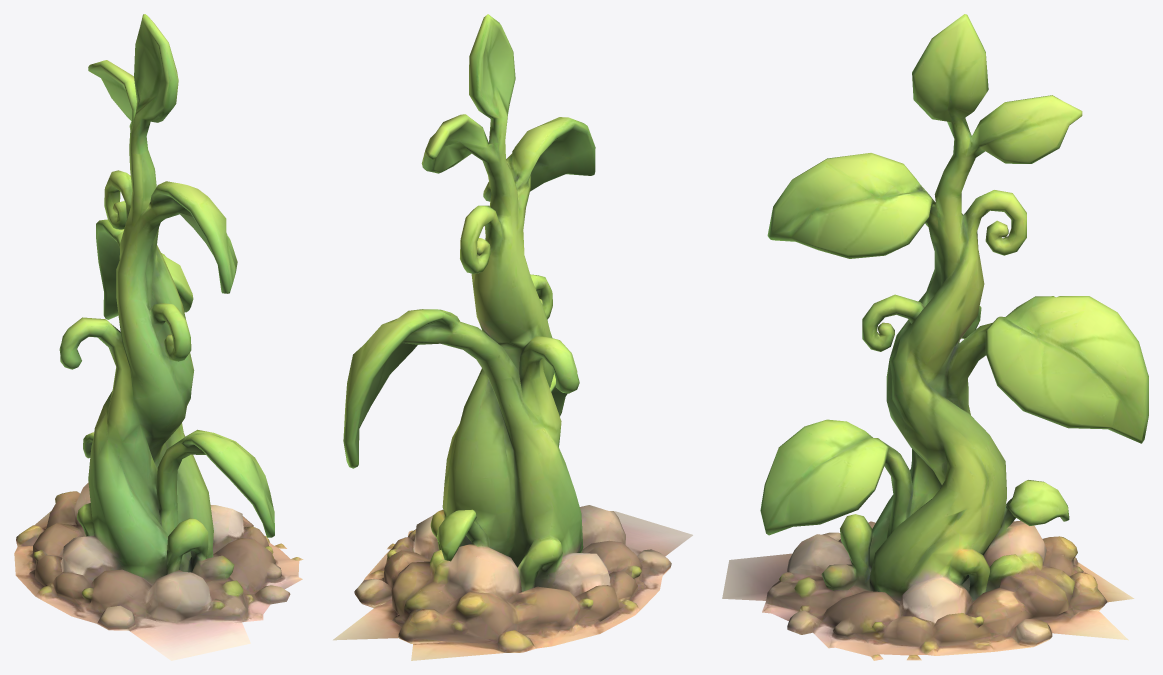
Rendered from fasola_3.glb.
The picture shows the model from 3 angles, left to right: view 1: azimuth 30°, elevation 25°; view 2: azimuth 150°, elevation 25°; view 3: azimuth 270°, elevation 25°; orthographic projection. The views are drawn at different scales.
Visible parts, largest first — view 1: fasola_3; view 2: fasola_3; view 3: fasola_3.
Boxes of the visible parts, <box> form: fasola_3: <box>14,14,303,660</box>; fasola_3: <box>333,14,692,660</box>; fasola_3: <box>722,14,1148,660</box>.
Size of the model in its own units: 0.4129 by 0.8982 by 0.589.
Materials: 1 (1 with a texture image).
